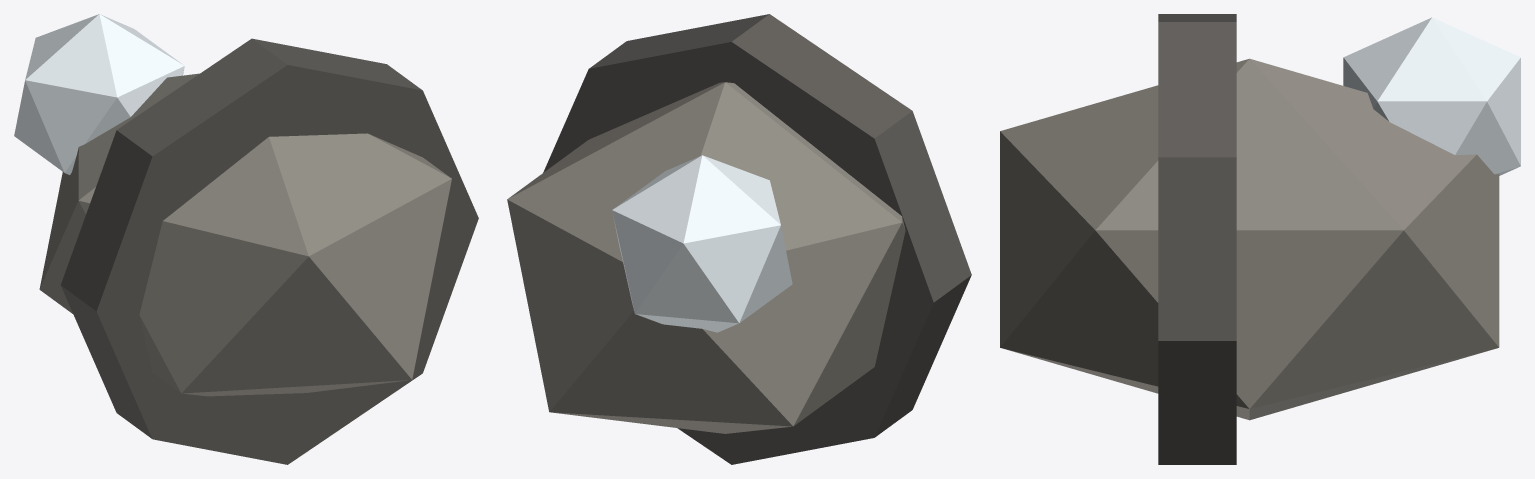
Rendered from WP_SlingStone.fbx.
The picture shows the model from 3 angles, left to right: view 1: azimuth 30°, elevation 25°; view 2: azimuth 150°, elevation 25°; view 3: azimuth 270°, elevation 25°; orthographic projection. The views are drawn at different scales.
Visible parts, largest first — view 1: WP_SlingStone; view 2: WP_SlingStone; view 3: WP_SlingStone.
Part boxes in pixels (x1=…): WP_SlingStone: x1=14, y1=14, x2=478, y2=464; WP_SlingStone: x1=507, y1=14, x2=971, y2=464; WP_SlingStone: x1=1000, y1=14, x2=1520, y2=464.
Bounding box in the file's own units: 0.184 × 0.1997 × 0.184.
